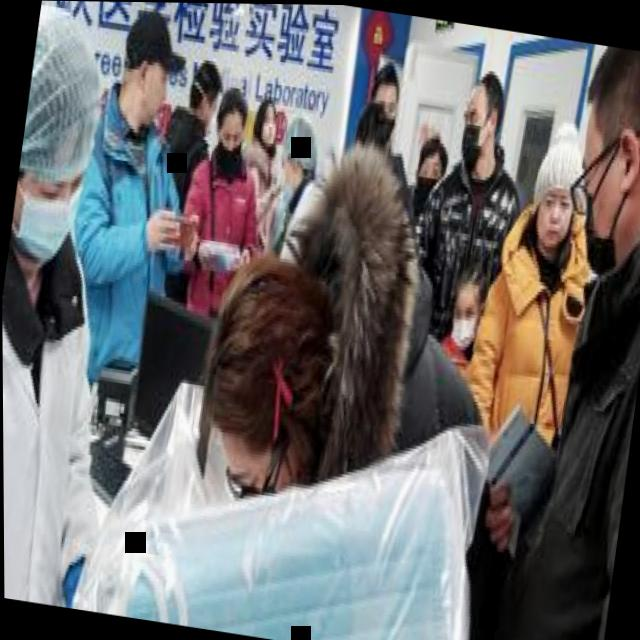Mask: (567, 108, 636, 276), (5, 168, 82, 275), (211, 431, 300, 510), (445, 274, 490, 352), (456, 89, 493, 165), (213, 118, 246, 182), (366, 88, 399, 142), (414, 155, 443, 213), (274, 151, 300, 207), (257, 108, 279, 150), (203, 93, 219, 134)
NO-Mask: (533, 184, 575, 250), (134, 63, 170, 132)
